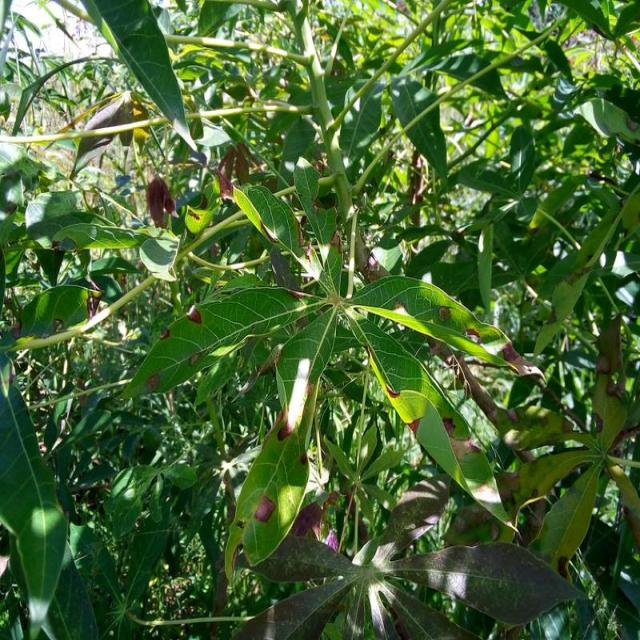cassava leaf: (81, 0, 206, 161)
